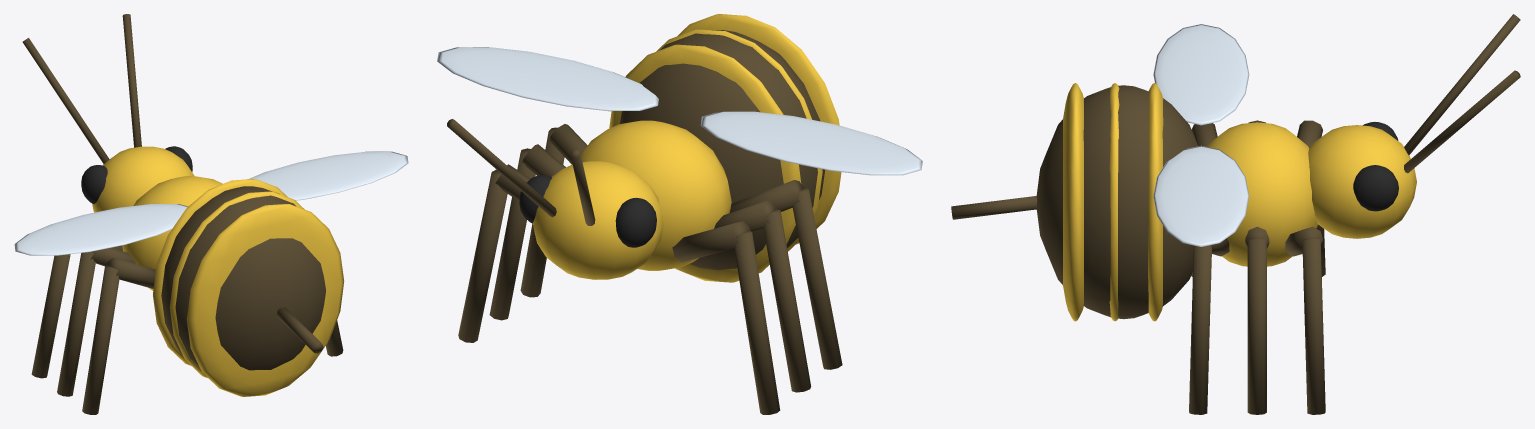
Rendered from bee.glb.
3 views of the same model, side by side, from view 1: azimuth 30°, elevation 25°; view 2: azimuth 150°, elevation 25°; view 3: azimuth 270°, elevation 25° (orthographic). The views are drawn at different scales.
Parts seen in each view (by area): view 1: abdomen_mesh, stripe0, wing_meshL, wing_meshR, head_mesh, thorax_mesh, legL3_lo_mesh, legL2_lo_mesh, stripe2, legL1_lo_mesh, stripe1, antennaL_mesh (+6 smaller); view 2: abdomen_mesh, thorax_mesh, head_mesh, wing_meshL, wing_meshR, stripe2, stripe0, legL1_lo_mesh, legL2_lo_mesh, legL3_lo_mesh, legR1_lo_mesh, legR2_lo_mesh (+11 smaller); view 3: abdomen_mesh, thorax_mesh, head_mesh, wing_meshR, wing_meshL, stripe0, legR2_lo_mesh, legR1_lo_mesh, legR3_lo_mesh, stripe2, stripe1, antennaL_mesh (+4 smaller).
Part boxes in pixels (<box>): abdomen_mesh: <box>161,186,325,370</box>; stripe0: <box>186,204,344,396</box>; wing_meshL: <box>14,203,187,255</box>; wing_meshR: <box>248,151,408,200</box>; head_mesh: <box>92,146,194,212</box>; thorax_mesh: <box>122,176,222,290</box>; legL3_lo_mesh: <box>82,265,119,414</box>; legL2_lo_mesh: <box>57,252,95,396</box>; stripe2: <box>153,179,287,365</box>; legL1_lo_mesh: <box>31,254,70,378</box>; stripe1: <box>169,191,304,378</box>; antennaL_mesh: <box>22,38,109,163</box>; abdomen_mesh: <box>620,30,824,270</box>; thorax_mesh: <box>581,120,731,270</box>; head_mesh: <box>533,161,663,279</box>; wing_meshL: <box>700,111,922,175</box>; wing_meshR: <box>437,47,658,111</box>; stripe2: <box>609,44,801,282</box>; stripe0: <box>677,14,841,244</box>; legL1_lo_mesh: <box>734,230,780,414</box>; legL2_lo_mesh: <box>763,209,811,392</box>; legL3_lo_mesh: <box>793,187,842,369</box>; legR1_lo_mesh: <box>458,169,507,342</box>; legR2_lo_mesh: <box>489,148,535,320</box>; abdomen_mesh: <box>1036,85,1197,319</box>; thorax_mesh: <box>1206,122,1317,266</box>; head_mesh: <box>1308,125,1416,238</box>; wing_meshR: <box>1153,145,1249,246</box>; wing_meshL: <box>1153,24,1249,125</box>; stripe0: <box>1063,83,1083,321</box>; legR2_lo_mesh: <box>1247,238,1266,414</box>; legR1_lo_mesh: <box>1302,238,1325,414</box>; legR3_lo_mesh: <box>1189,245,1211,414</box>; stripe2: <box>1148,83,1163,321</box>; stripe1: <box>1109,83,1119,321</box>; antennaL_mesh: <box>1404,14,1520,155</box>.
Bounding box in the file's own units: 1.32 × 0.8322 × 1.42.
